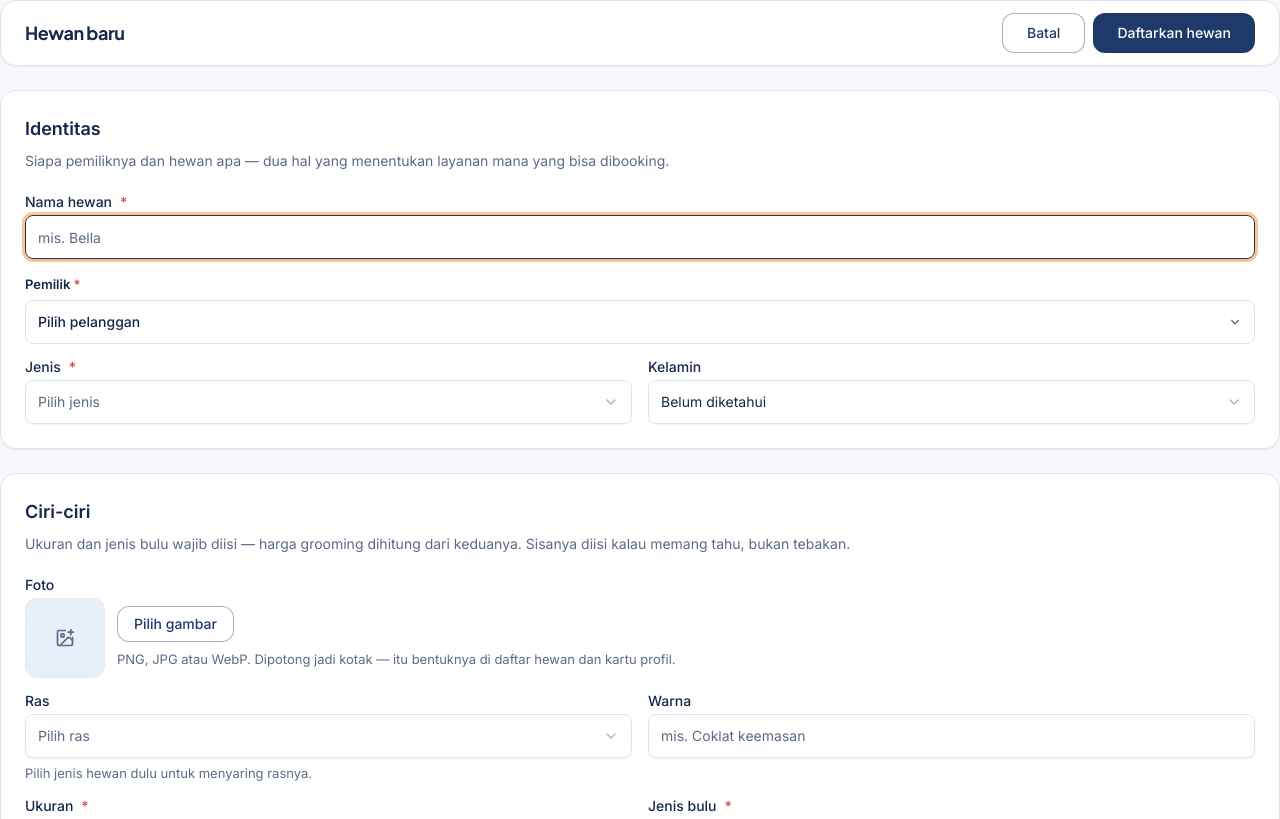
PetForm — registering › refuses to submit without a size and a coat, pointing at each
Click the button "Daftarkan hewan". click: (1174,33)
box: [1093,13,1255,53]
(page scrolled)
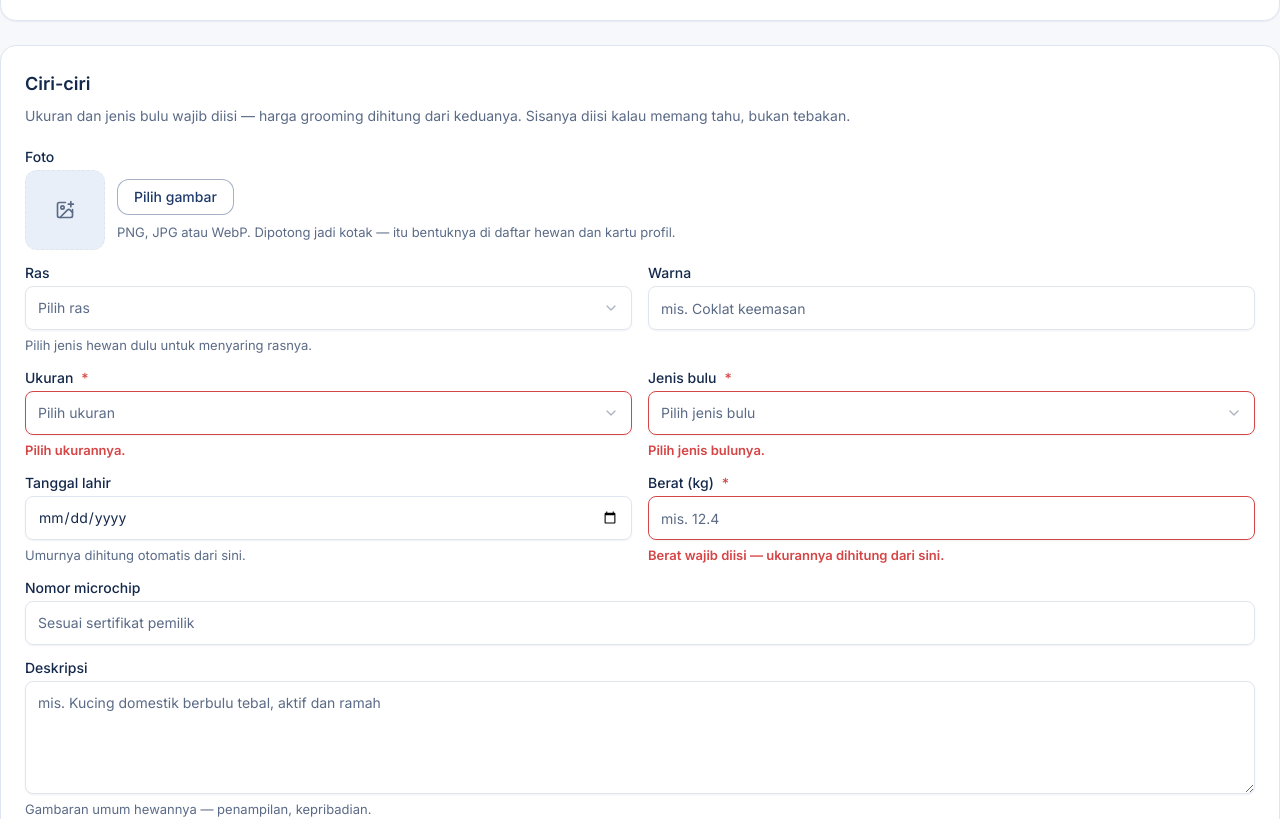
Check: the text "Pilih ukurannya." is shown, box [25,442,126,458]
Check: the text "Pilih jenis bulunya." is shown, box [648,442,765,458]
